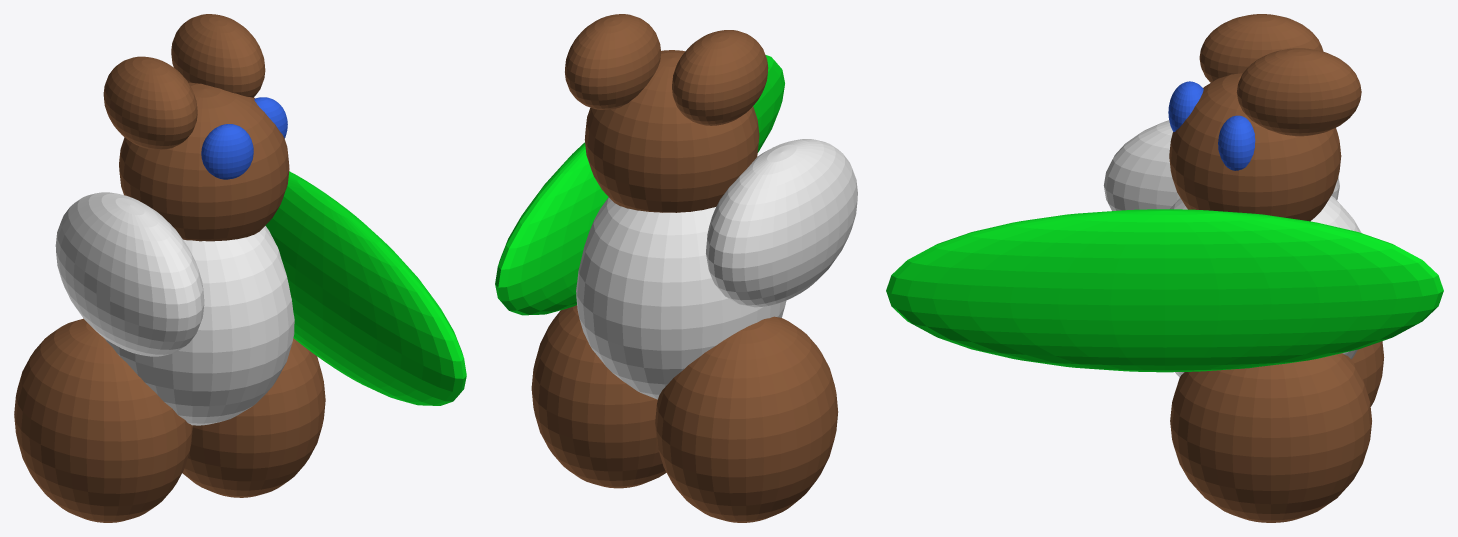
Rendered from tekop.fbx.
3 renders of one model, left to right at view 1: azimuth 30°, elevation 25°; view 2: azimuth 150°, elevation 25°; view 3: azimuth 270°, elevation 25°, orthographic. The views are drawn at different scales.
Visible parts, largest first — view 1: Sphere.003, Sphere.007, Sphere.001, Sphere.002; view 2: Sphere.003, Sphere.007; view 3: Sphere.007, Sphere.003, Sphere.002, Sphere.001.
Boxes of the visible parts, x1,y1,x2,y2 form: Sphere.003: (14, 14, 325, 522); Sphere.007: (265, 171, 466, 405); Sphere.001: (201, 124, 253, 179); Sphere.002: (254, 97, 287, 138); Sphere.003: (531, 14, 857, 522); Sphere.007: (495, 55, 784, 315); Sphere.007: (886, 209, 1443, 372); Sphere.003: (1103, 14, 1384, 522); Sphere.002: (1218, 115, 1255, 170); Sphere.001: (1168, 81, 1203, 131).
Bounding box in the file's own units: 371 × 593 × 648.
